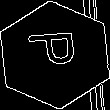P_E: (25, 34, 85, 76)
